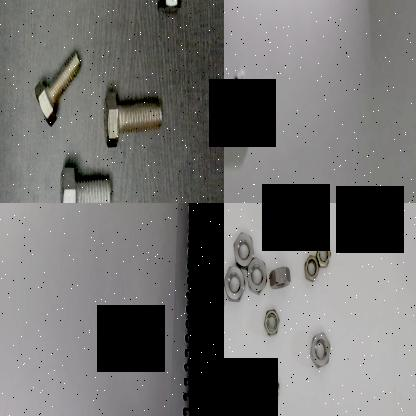Bolts: (28, 38, 89, 134), (99, 83, 170, 154), (51, 160, 119, 203), (228, 64, 258, 122), (151, 0, 188, 24)
NUTS: (308, 327, 332, 371), (232, 228, 256, 270), (245, 254, 269, 294), (270, 203, 295, 238), (224, 261, 243, 305), (266, 264, 294, 292), (304, 206, 324, 240), (262, 370, 282, 404), (262, 304, 280, 338), (301, 250, 320, 280), (314, 238, 332, 268)
